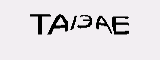І: (68, 14, 79, 32)
А: (46, 13, 69, 37), (94, 15, 113, 37)
Е: (110, 15, 132, 36)
Т: (28, 10, 51, 36)
Э: (75, 13, 94, 30)
